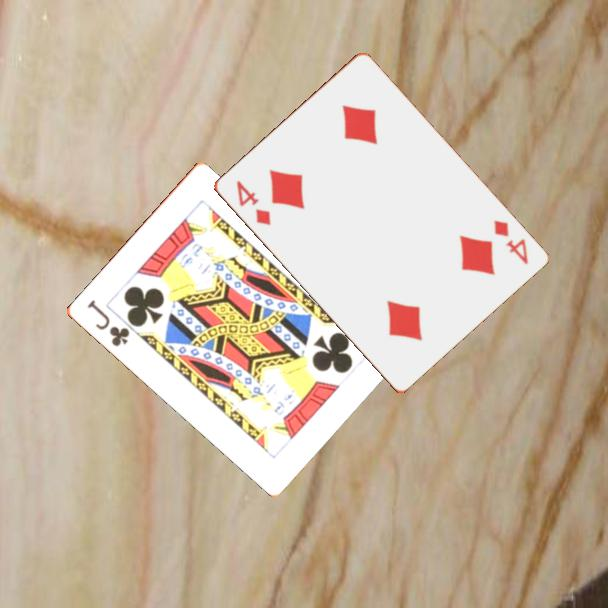c11: (83, 296, 132, 350)
d04: (232, 177, 273, 228), (490, 217, 530, 267)
